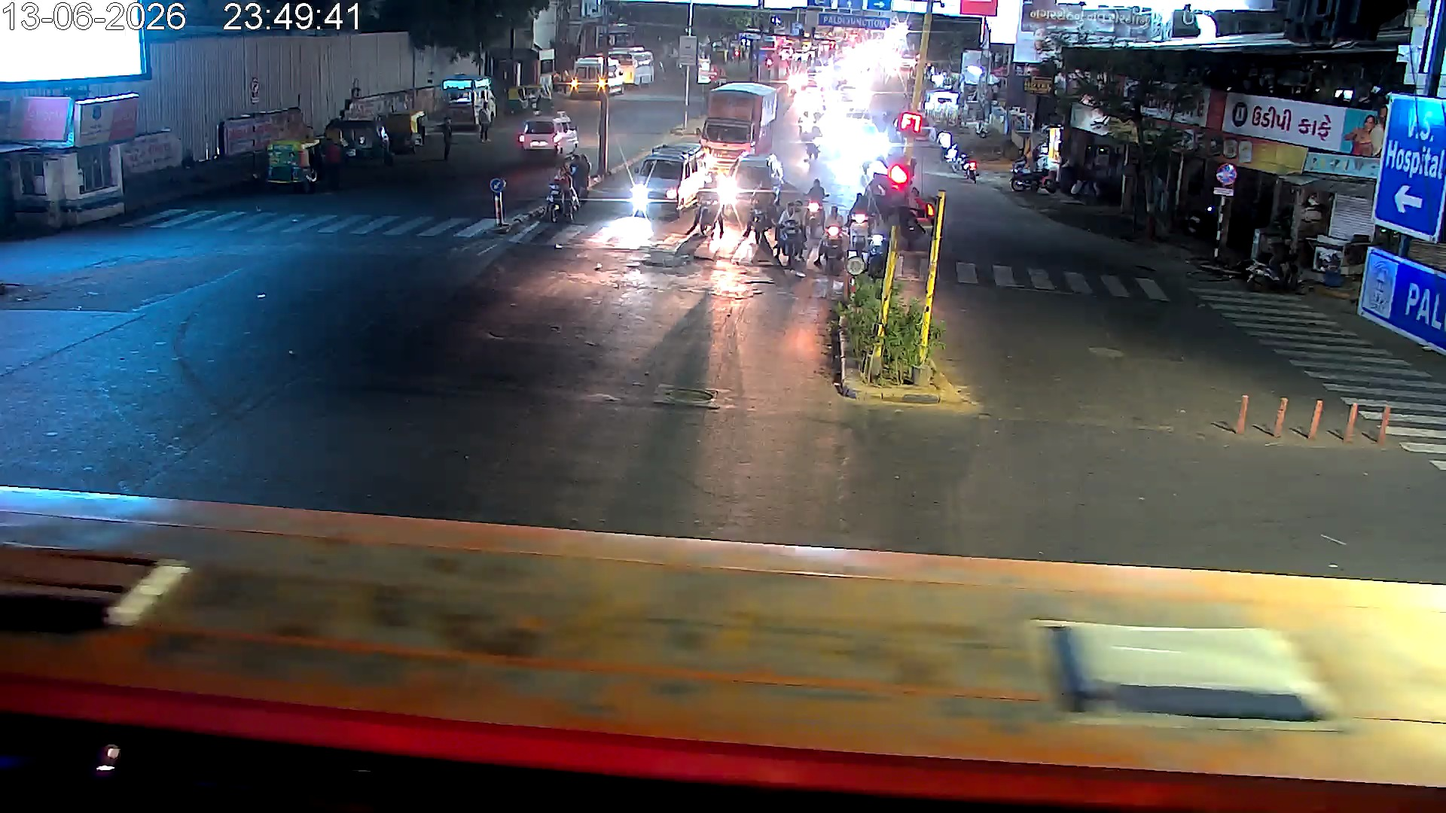bus: (701, 76, 777, 144)
car: (625, 139, 702, 214), (517, 109, 580, 154), (872, 142, 919, 190)
two_wheeler: (544, 155, 585, 225)
